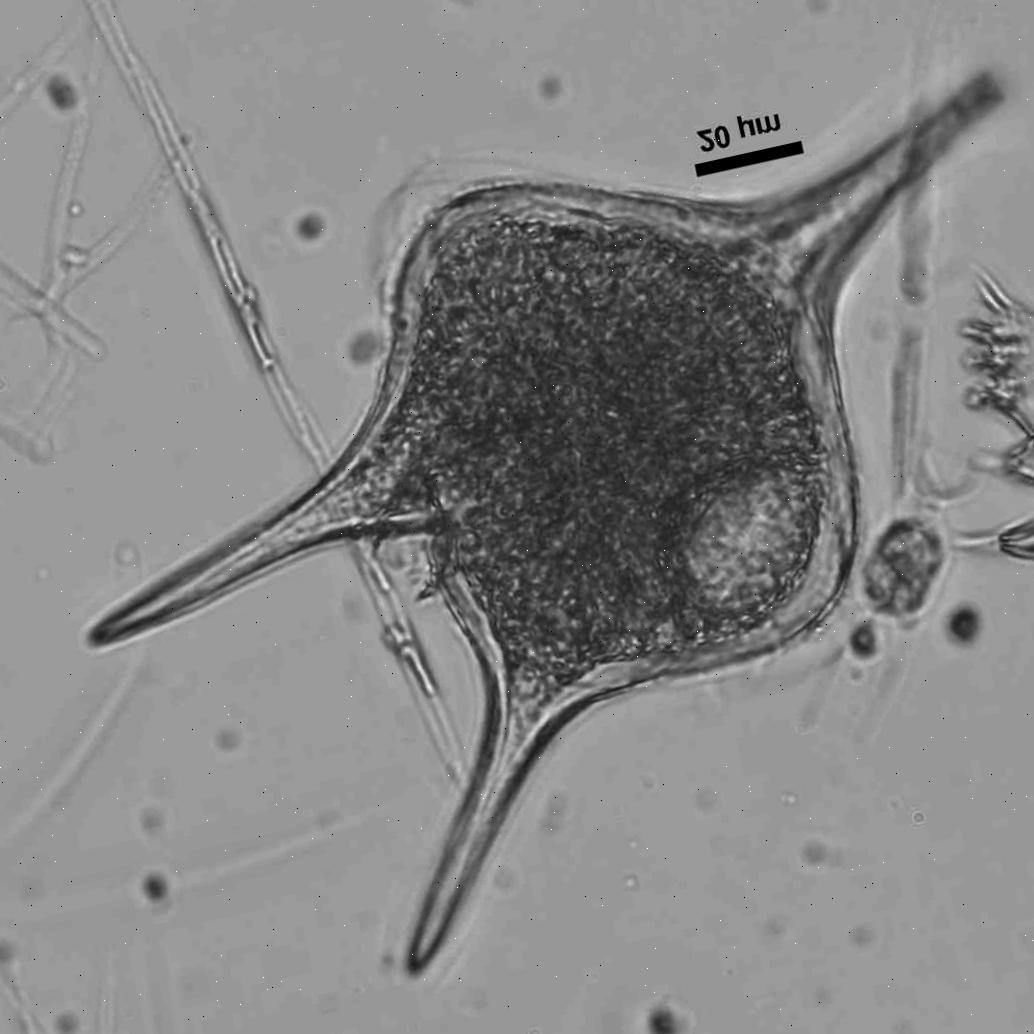protoperidinium_oceanicum: (96, 76, 1003, 961)
